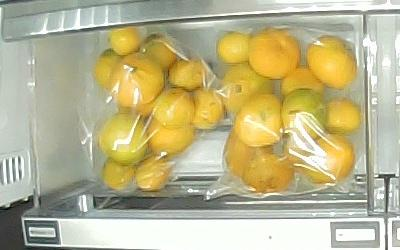tangerine: (111, 54, 164, 107), (248, 29, 301, 79), (307, 35, 357, 88), (302, 135, 356, 184), (225, 125, 274, 179), (222, 65, 275, 114), (235, 95, 284, 146), (98, 115, 146, 163), (282, 88, 324, 142), (242, 154, 294, 193), (148, 118, 197, 157), (152, 88, 194, 129), (322, 97, 360, 134), (192, 89, 225, 129), (135, 156, 171, 191), (141, 37, 176, 73), (93, 49, 123, 89), (168, 59, 205, 90), (216, 32, 251, 63), (109, 25, 141, 54), (102, 160, 134, 189)
